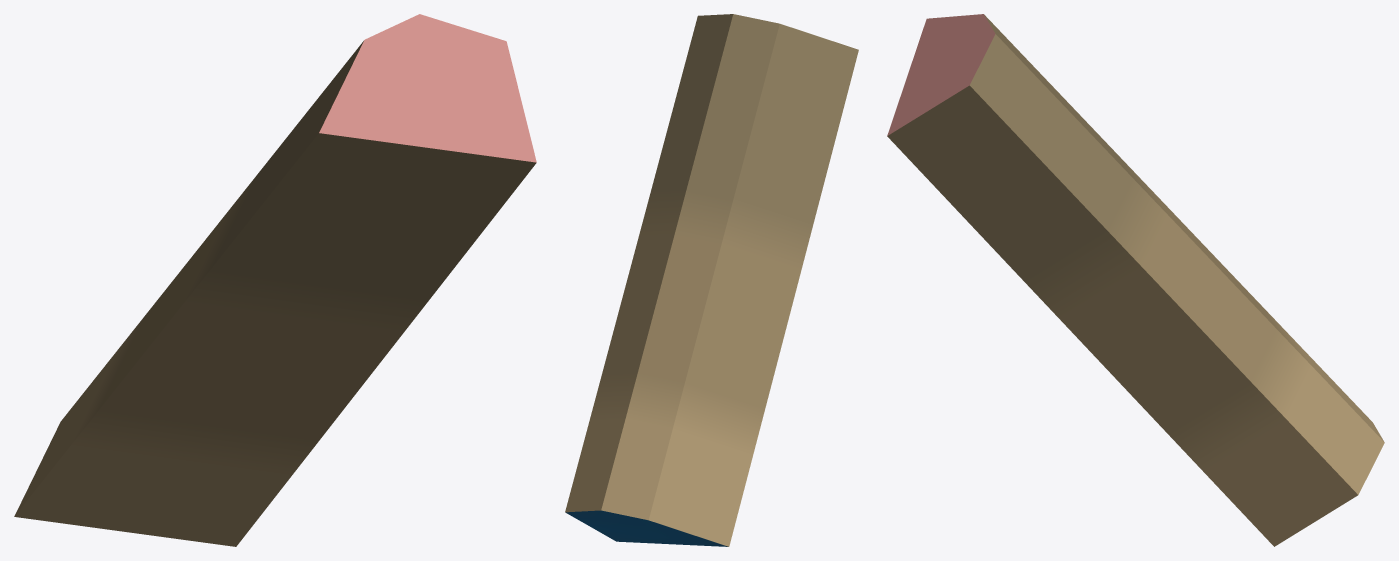
File: 0687_Monaco.glb
3 views of the same model, side by side, from view 1: azimuth 30°, elevation 25°; view 2: azimuth 150°, elevation 25°; view 3: azimuth 270°, elevation 25° (orthographic). The views are drawn at different scales.
Visible parts, largest first — view 1: part_0; view 2: part_0; view 3: part_0.
Boxes of the visible parts, left/top/right/bottom form: part_0: left=14, top=14, right=536, bottom=546; part_0: left=565, top=14, right=858, bottom=546; part_0: left=887, top=14, right=1384, bottom=546.
Bounding box in the file's own units: 0.0787 × 0.1849 × 0.1621.
1 material, 1 textured.
